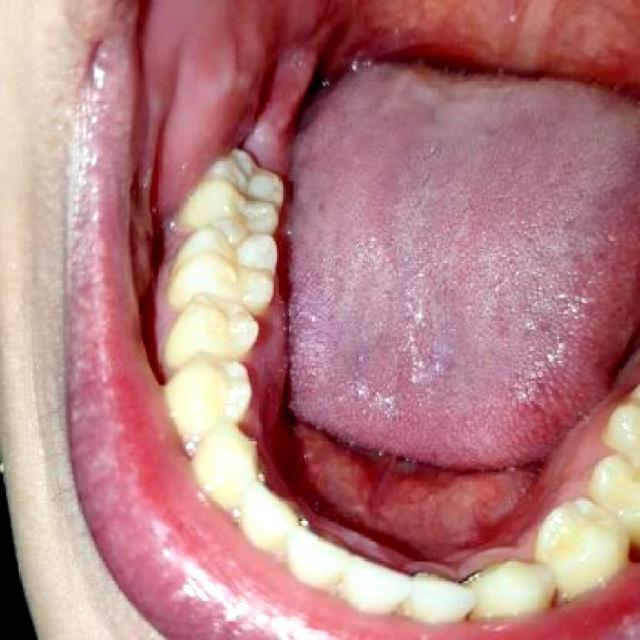Plaque: (215, 156, 275, 239)
